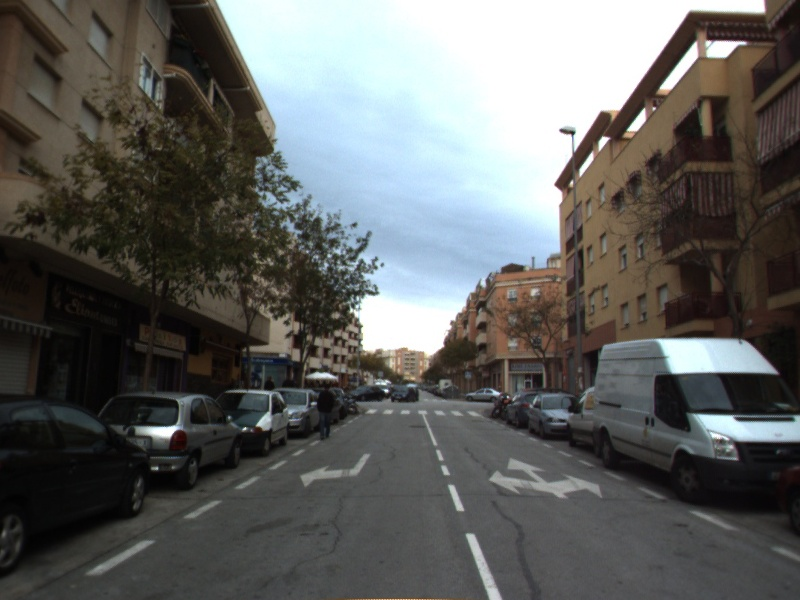STRAIGHT_LEFT_RIGHT: (487, 455, 604, 500)
